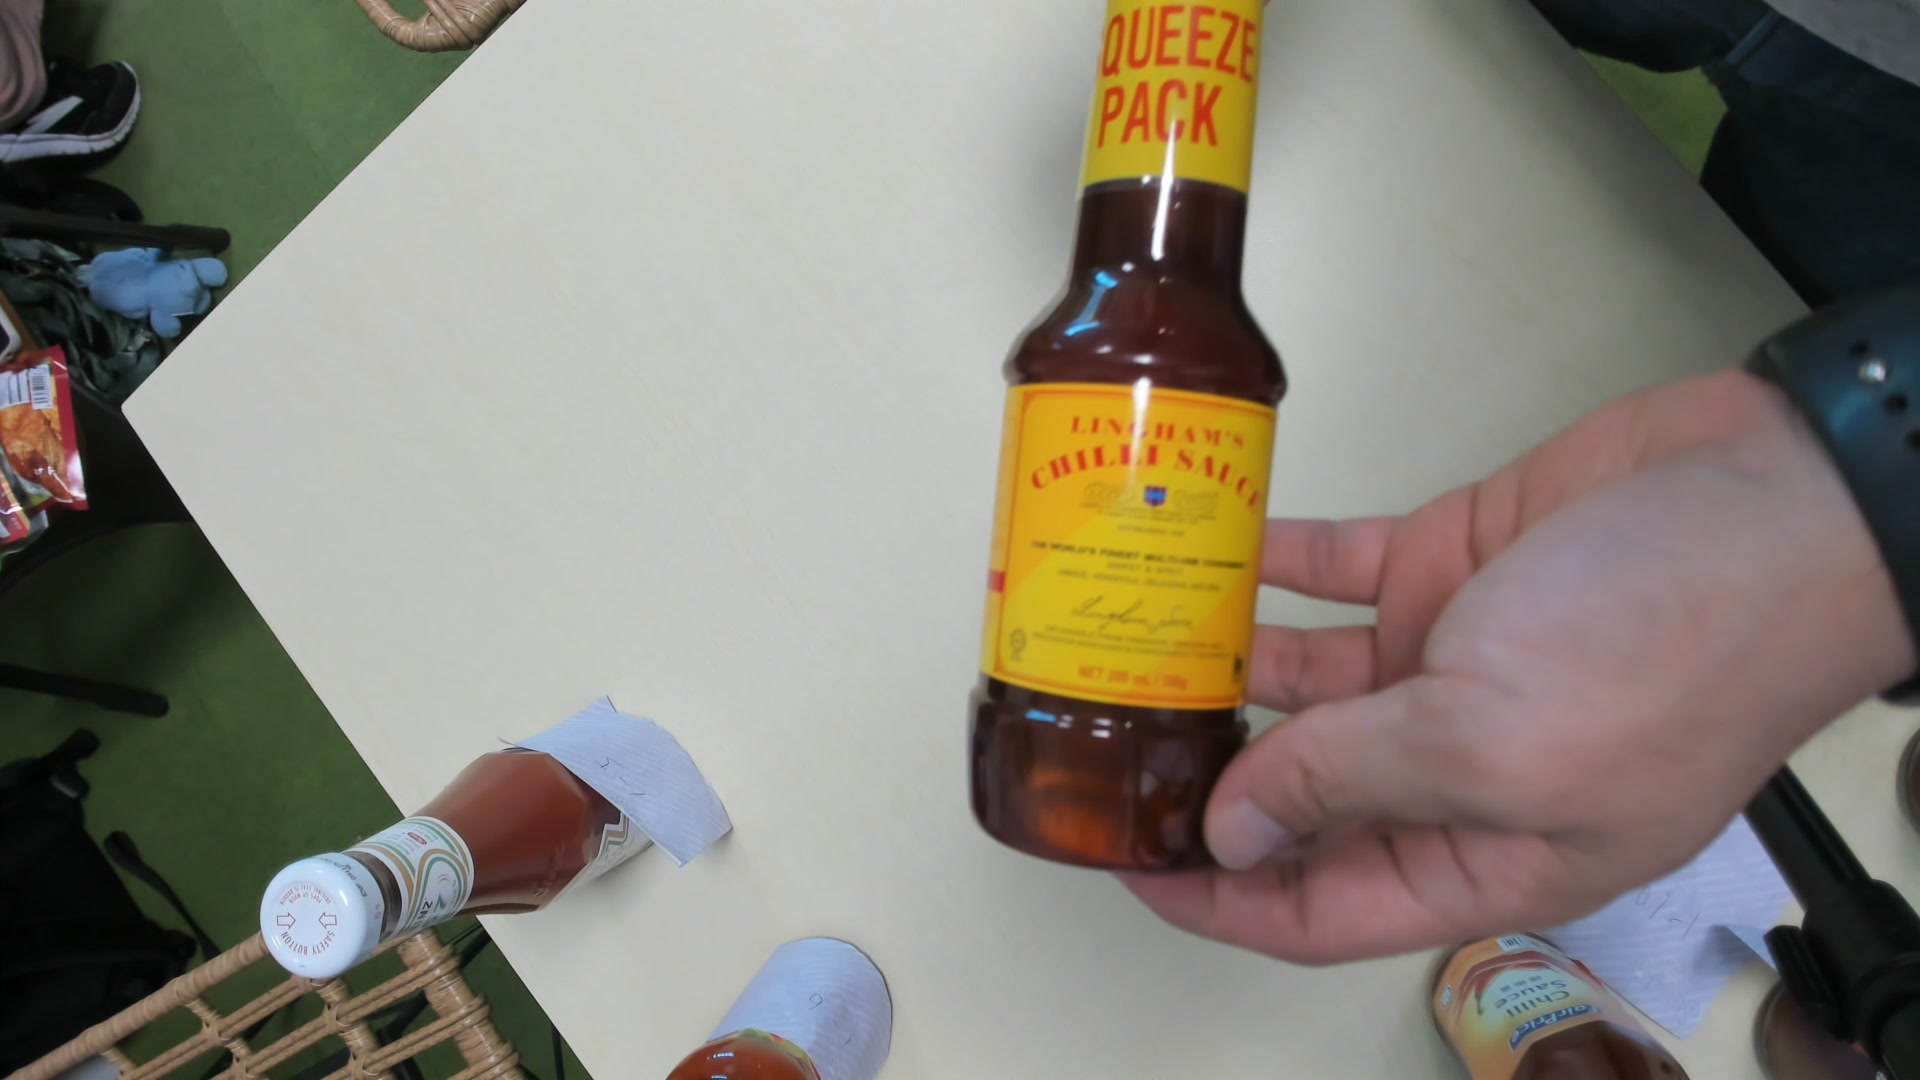KetchupChillSauce_300-399g_Halal_NonHealthy: (968, 8, 1287, 869)
